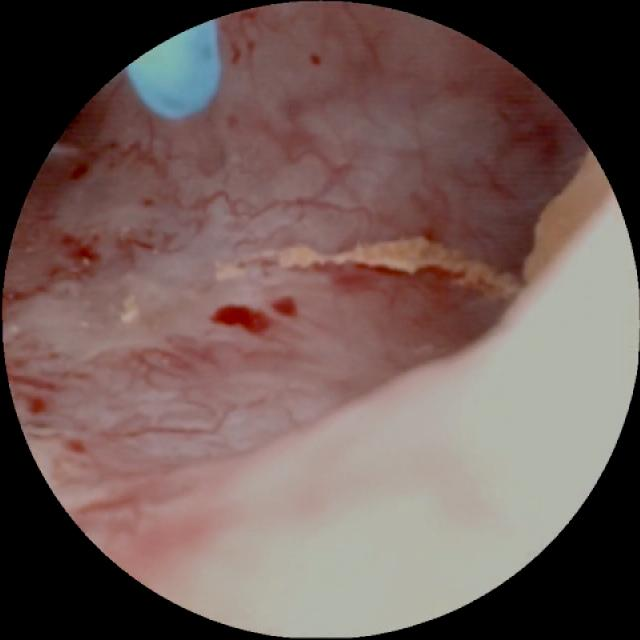fiber: (128, 25, 219, 117)
stone: (277, 239, 521, 291), (523, 156, 607, 277)
